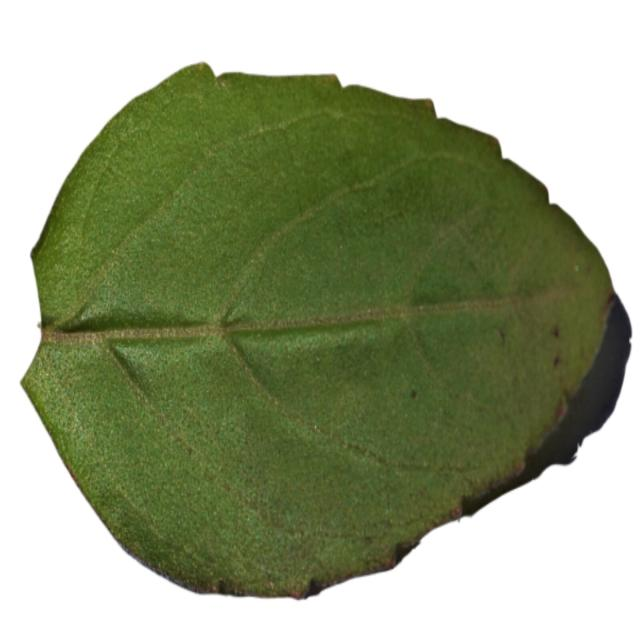tulsi: (24, 54, 633, 606)
